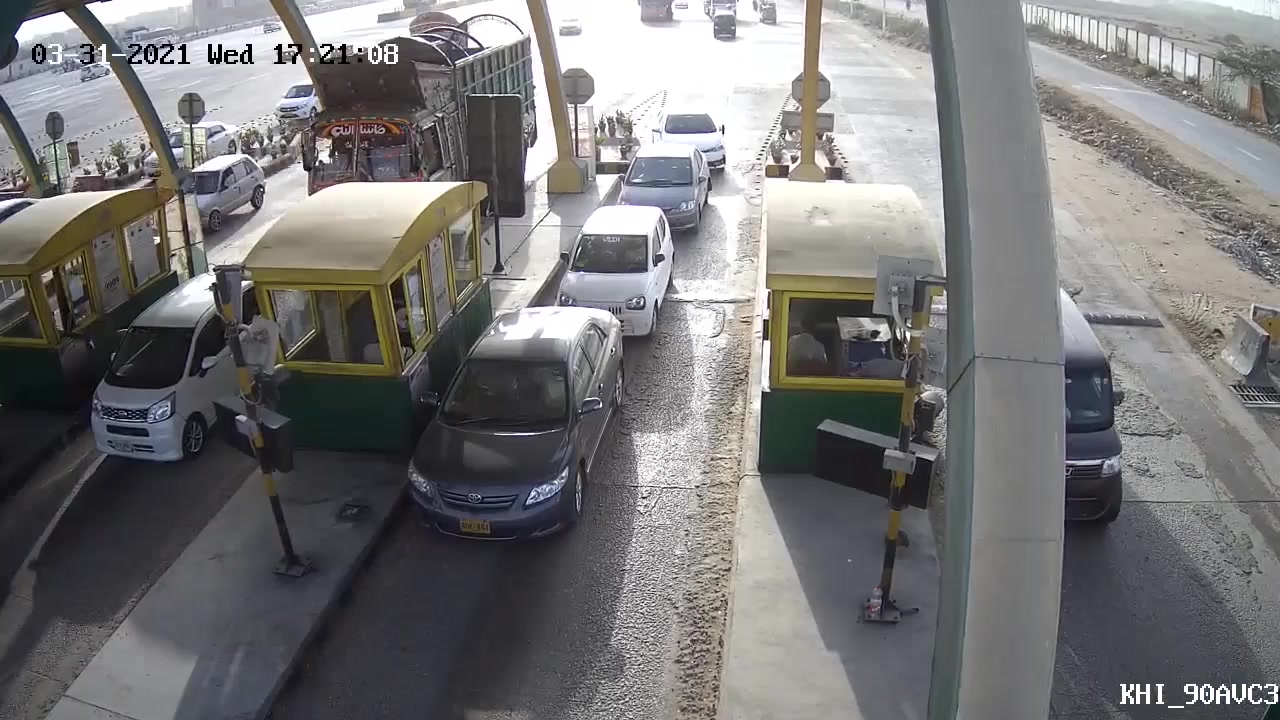F1: (399, 301, 627, 546)
